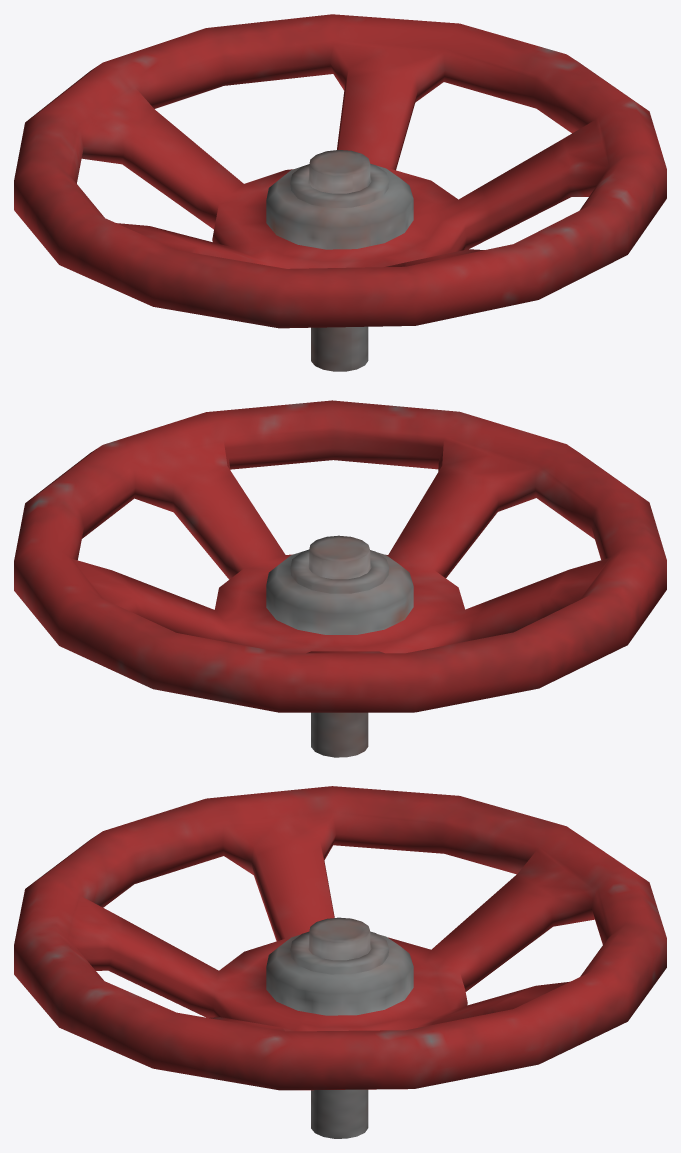
The model's file is valvula.glb.
The picture shows the model from 3 angles, top to bottom: view 1: azimuth 30°, elevation 25°; view 2: azimuth 150°, elevation 25°; view 3: azimuth 270°, elevation 25°; orthographic projection.
Visible parts, largest first — view 1: Pipe_BigValve_ModularPipes_Large_0; view 2: Pipe_BigValve_ModularPipes_Large_0; view 3: Pipe_BigValve_ModularPipes_Large_0.
Boxes of the visible parts, x1,y1,x2,y2 form: Pipe_BigValve_ModularPipes_Large_0: [14, 14, 666, 371]; Pipe_BigValve_ModularPipes_Large_0: [14, 400, 666, 757]; Pipe_BigValve_ModularPipes_Large_0: [14, 786, 666, 1138].
Size of the model in its own units: 4.65 by 1.69 by 4.67.
Materials: 1 (1 with a texture image).
